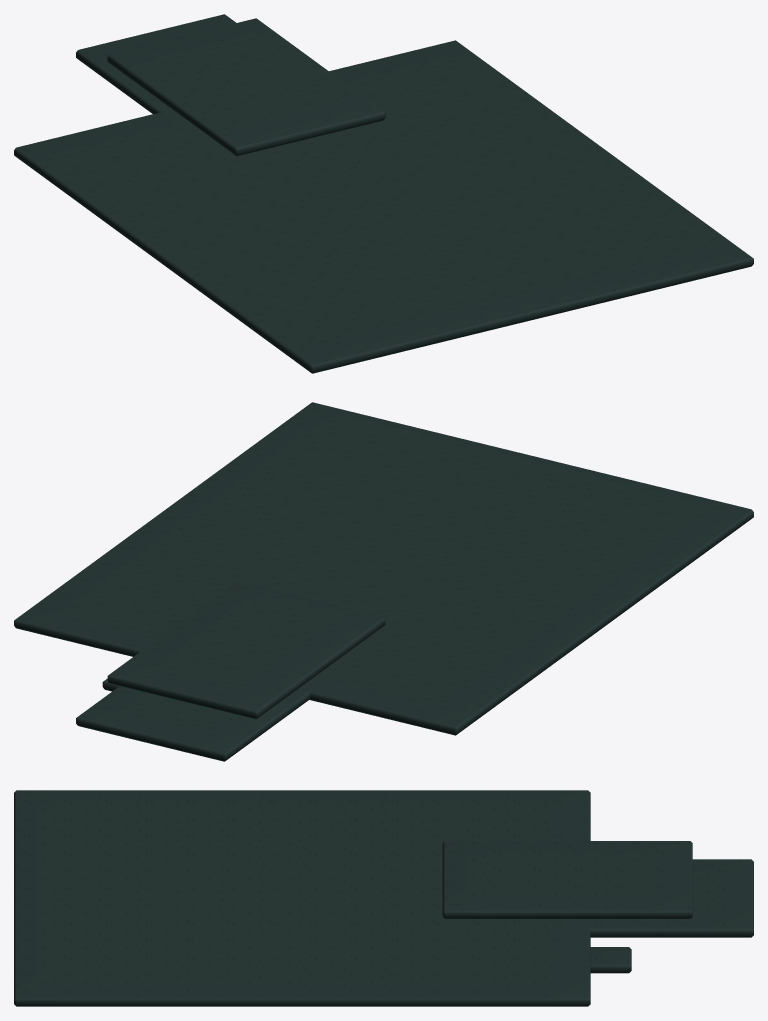
Rendered from sample_grass.fbx.
3 renders of one model, top to bottom at view 1: azimuth 30°, elevation 25°; view 2: azimuth 150°, elevation 25°; view 3: azimuth 270°, elevation 25°, orthographic. The views are drawn at different scales.
Parts seen in each view (by area): view 1: sample_grass; view 2: sample_grass; view 3: sample_grass.
Boxes of the visible parts, <box> form: sample_grass: <box>14,14,753,373</box>; sample_grass: <box>14,402,753,761</box>; sample_grass: <box>14,790,753,1006</box>.
Size of the model in its own units: 2425 by 250 by 3625.
